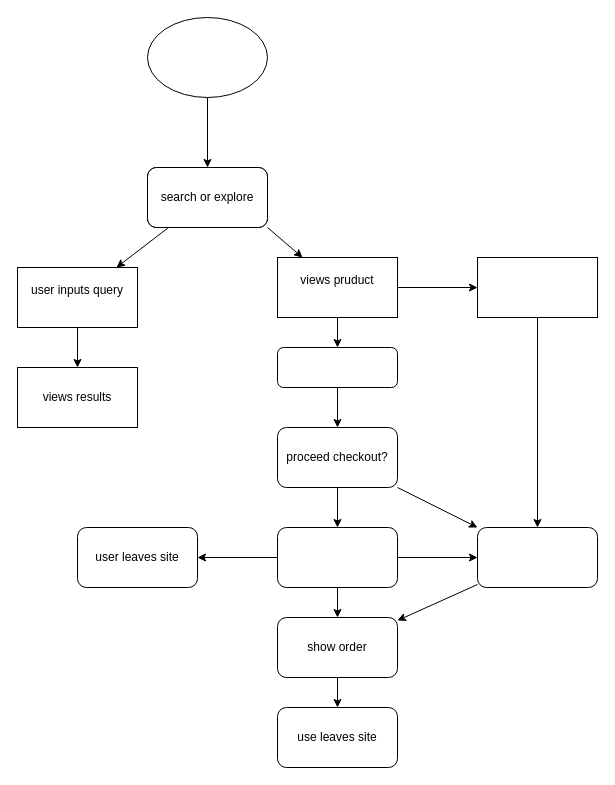
Some shapes in this 615 by 785 pixel diagram are drawn without their labels. The centre of each missing label's shape, as x and y in pixels:
continue shopping: the point at 337,367
enter site: the point at 207,57
opens page: the point at 537,287
view cart: the point at 337,557
views inputs/payment info: the point at 537,557
